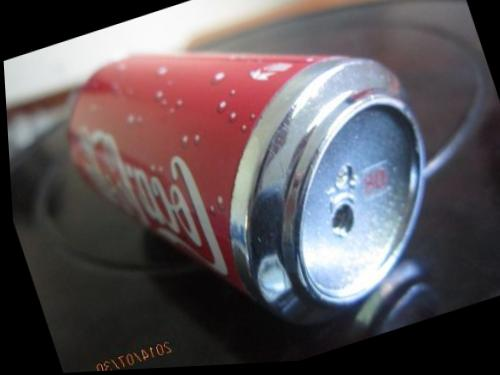metal: (68, 54, 478, 368)
